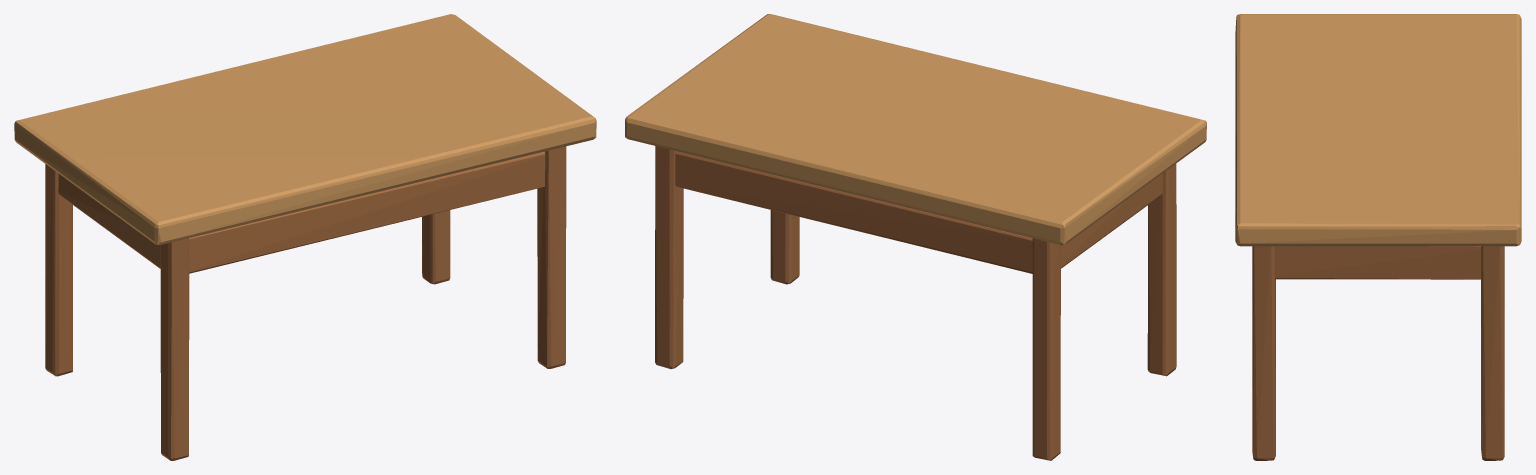
Rendered from dining-table-near.glb.
3 views of the same model, side by side, from view 1: azimuth 30°, elevation 25°; view 2: azimuth 150°, elevation 25°; view 3: azimuth 270°, elevation 25° (orthographic).
Visible parts, largest first — view 1: dining-table; view 2: dining-table; view 3: dining-table.
Boxes of the visible parts, x1,y1,x2,y2 form: dining-table: [14, 14, 596, 460]; dining-table: [625, 14, 1206, 460]; dining-table: [1235, 14, 1521, 460].
Size of the model in its own units: 1.5 by 0.8125 by 0.85.
